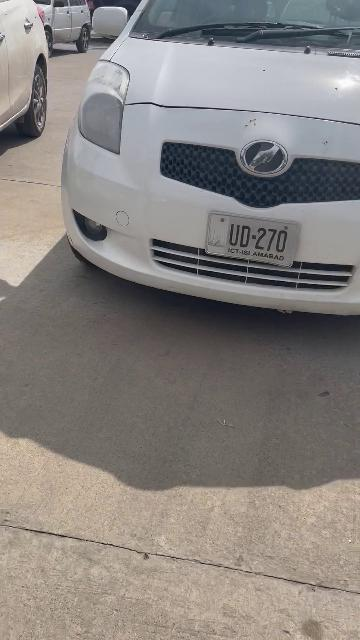plate: (206, 212, 301, 268)
